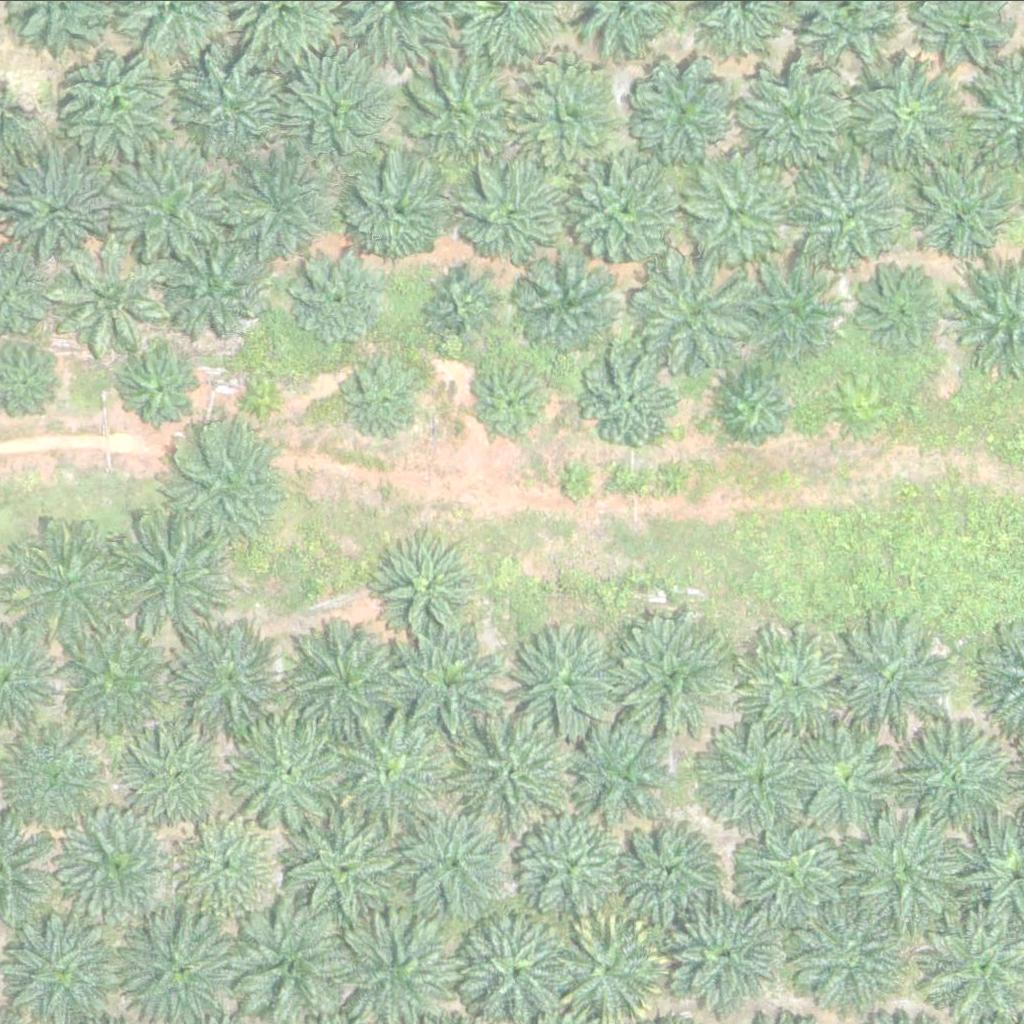Kelapa_Sawit: (59, 609, 185, 734), (15, 519, 141, 644), (59, 36, 185, 161), (105, 142, 231, 267), (108, 517, 234, 642), (286, 620, 412, 745), (507, 614, 633, 739), (603, 615, 729, 740), (455, 713, 581, 838), (327, 706, 453, 831), (230, 714, 356, 839), (287, 809, 413, 934), (234, 893, 360, 1018), (629, 253, 755, 378), (695, 714, 821, 839), (731, 807, 857, 932), (733, 620, 859, 745), (663, 894, 789, 1019), (854, 810, 980, 935), (895, 718, 1021, 843), (833, 616, 959, 741), (162, 417, 287, 542), (65, 804, 179, 917), (169, 808, 283, 921), (52, 242, 165, 355), (405, 56, 518, 169), (511, 62, 624, 175), (572, 150, 685, 263), (456, 160, 569, 273), (340, 150, 453, 263), (222, 145, 335, 258), (375, 529, 488, 642), (573, 719, 686, 832), (399, 805, 512, 918), (513, 807, 626, 920), (622, 52, 735, 165), (737, 57, 850, 170), (850, 57, 963, 170), (389, 624, 503, 736), (178, 53, 291, 165), (279, 54, 392, 166), (161, 226, 274, 338), (174, 624, 287, 736), (117, 717, 230, 829), (688, 153, 801, 265), (739, 252, 852, 364), (795, 157, 908, 269), (290, 245, 391, 345), (521, 253, 622, 353), (614, 825, 715, 925), (916, 161, 1017, 261), (584, 349, 684, 449), (803, 727, 903, 827), (342, 352, 430, 440), (470, 354, 558, 442), (118, 342, 206, 430), (853, 265, 941, 352), (718, 368, 794, 443), (425, 266, 500, 341), (241, 369, 279, 407), (561, 462, 599, 499)
